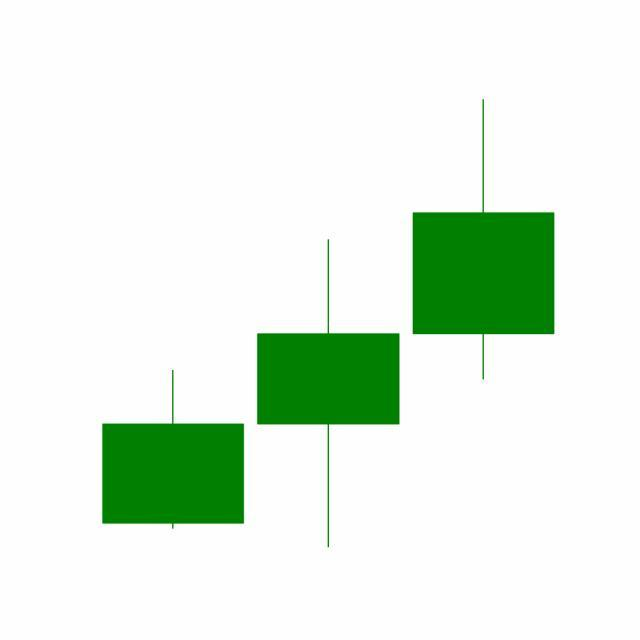Spinning Top: (250, 236, 407, 551)
